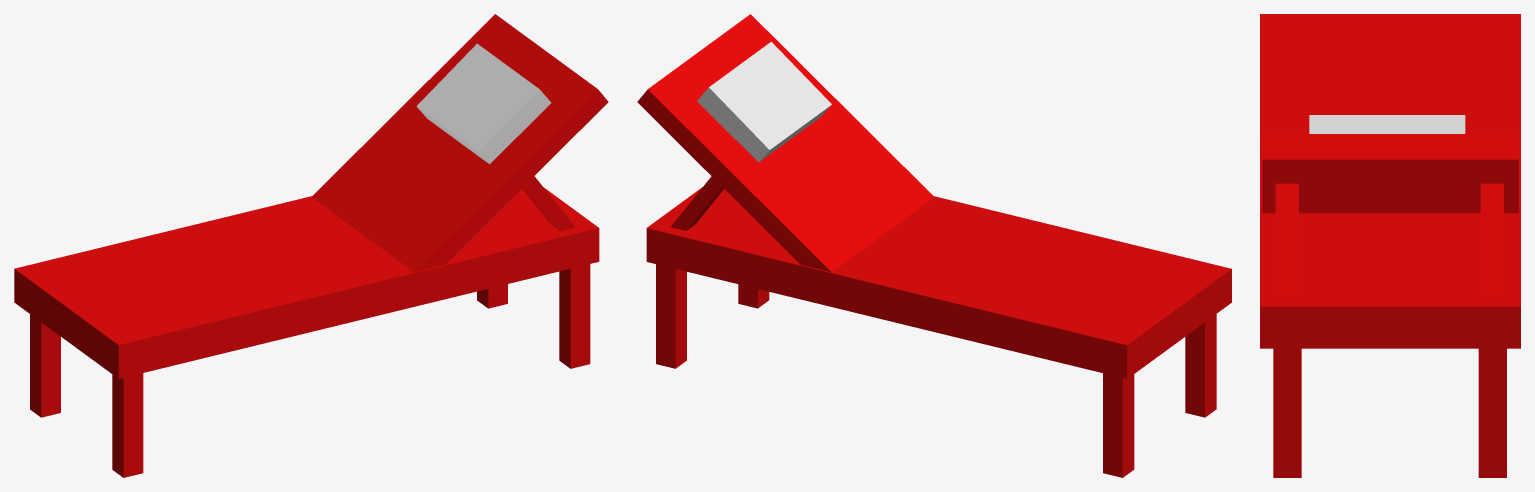
The model's file is poolchair.fbx.
3 views of the same model, side by side, from view 1: azimuth 30°, elevation 25°; view 2: azimuth 150°, elevation 25°; view 3: azimuth 270°, elevation 25° (orthographic). The views are drawn at different scales.
Visible parts, largest first — view 1: polySurface13; view 2: polySurface13; view 3: polySurface13.
Part boxes in pixels (<box>): polySurface13: <box>14,14,608,477</box>; polySurface13: <box>637,14,1231,477</box>; polySurface13: <box>1260,14,1520,477</box>.
Bounding box in the file's own units: 12.47 × 6.73 × 4.6.
